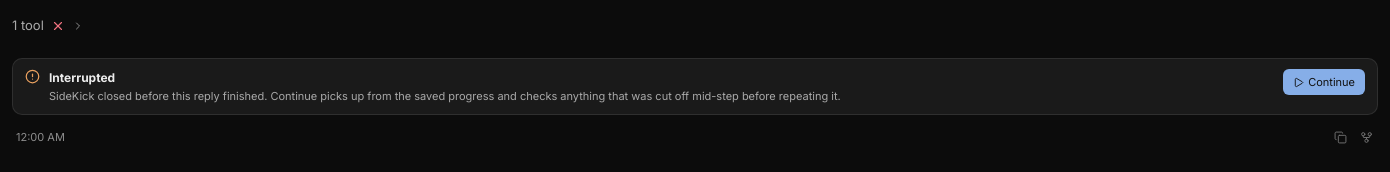
it: MessageItem › offers one Continue on an interrupted reply that can still be continued
The image size is (1390, 172).
Click the button "Continue" at (1324,82), box [1283, 69, 1365, 95]
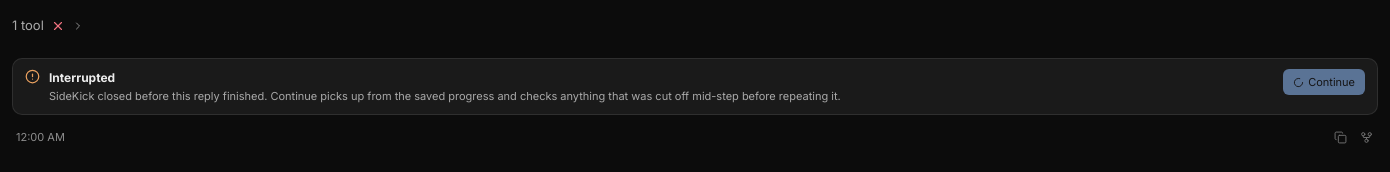
Click the button "Continue" at (1324,82), box [1283, 69, 1365, 95]
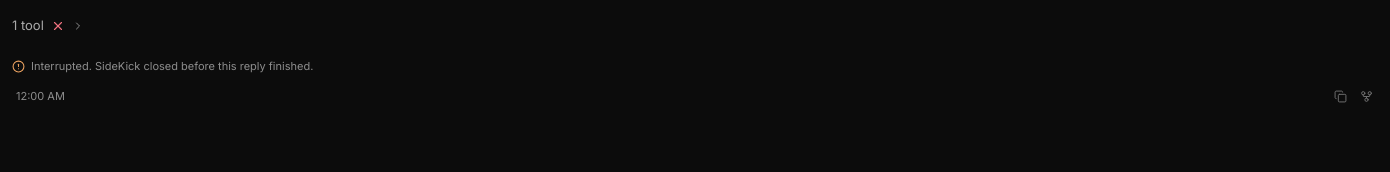
Now the message "Interrupted. SideKick closed before this reply finished." is shown, box [12, 59, 313, 73]
